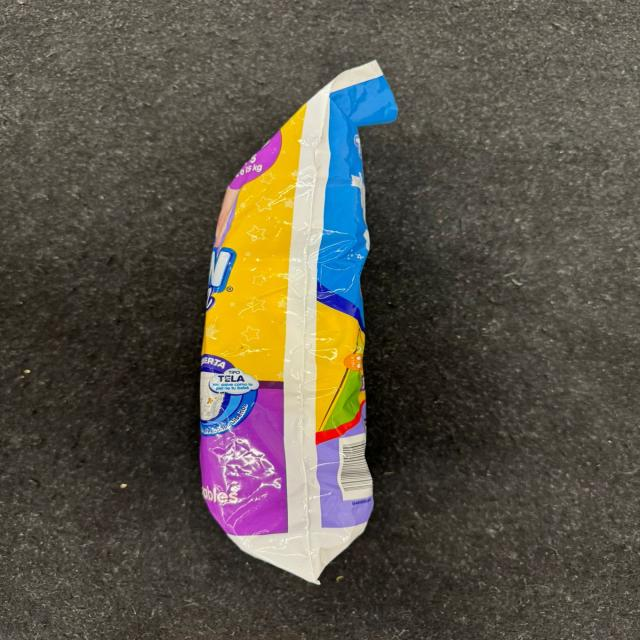Panales Tikytin 14pz T5: (183, 59, 404, 581)
